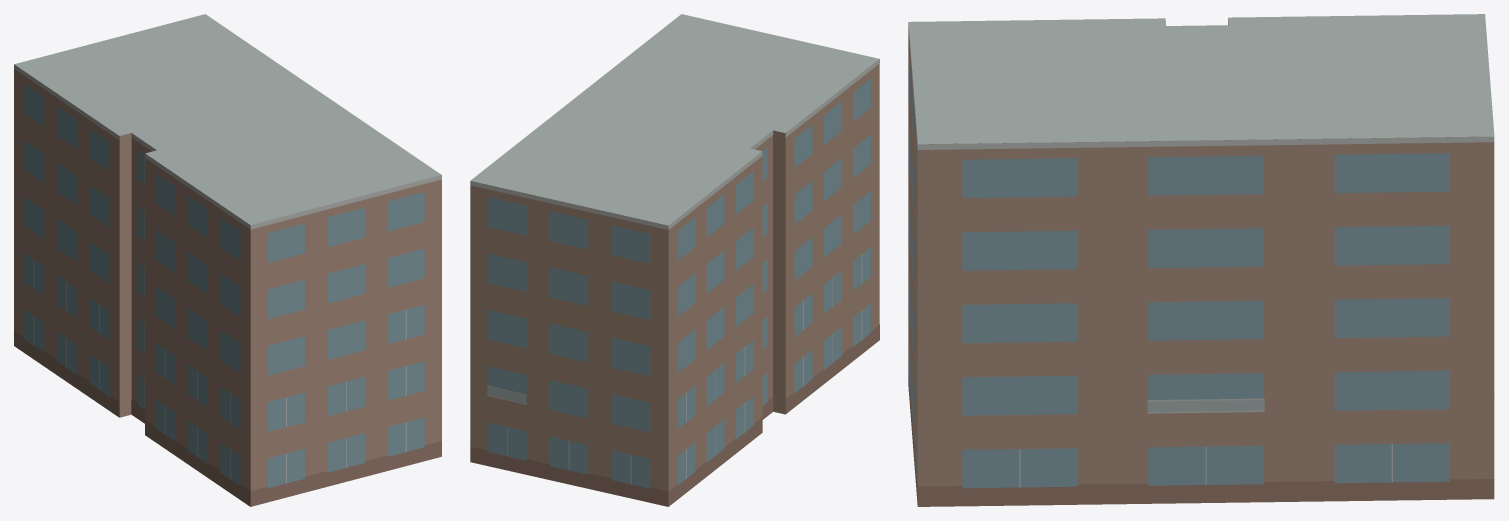
Rendered from survey-upis-32657641.glb.
The picture shows the model from 3 angles, left to right: view 1: azimuth 30°, elevation 25°; view 2: azimuth 150°, elevation 25°; view 3: azimuth 270°, elevation 25°; orthographic projection. The views are drawn at different scales.
Parts seen in each view (by area): view 1: survey-upis-32657641.tmp; view 2: survey-upis-32657641.tmp; view 3: survey-upis-32657641.tmp.
Part boxes in pixels (<box>): survey-upis-32657641.tmp: <box>14,14,441,506</box>; survey-upis-32657641.tmp: <box>470,14,879,506</box>; survey-upis-32657641.tmp: <box>908,14,1494,506</box>.
Bounding box in the file's own units: 11.87 × 15.4 × 22.57.
